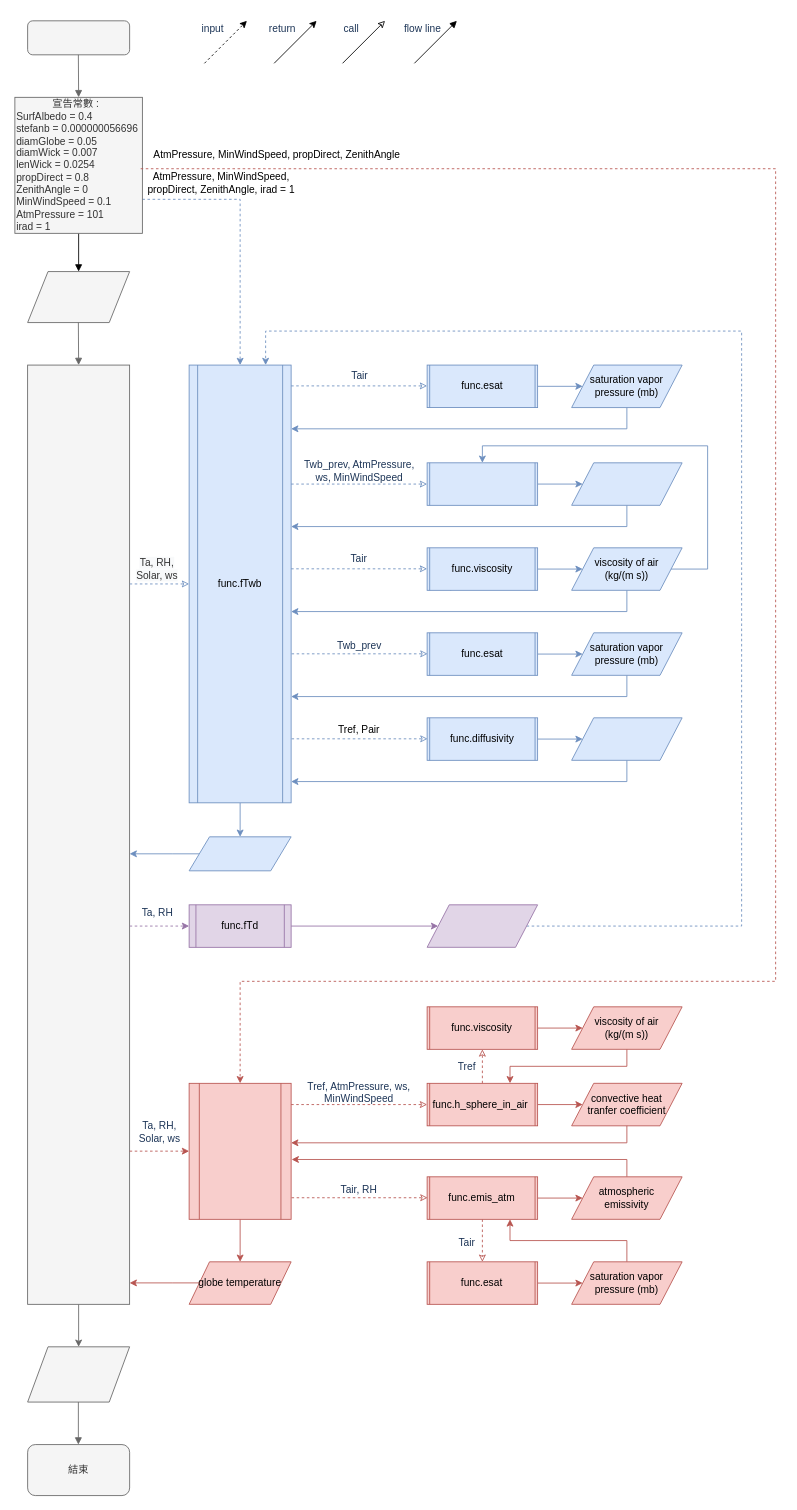
Some shapes in this 797 by 1510 pixel diagram are drawn without their labels. Each missing label, with the centre of its shape:
"convective heat transfer coefficient" belongs at (626,483).
"dew point" belongs at (482,925).
"diffusivity of water vapor in air (m2/s)" belongs at (626,738).
"func.fTg" belongs at (239,1150).
"func.h_cylinder_in_air" belongs at (482,483).
"natural wet bulb temperature" belongs at (239,853).
"匯入資料 Ta, RH, Solar, ws" belongs at (78,297).
"計算WBGT WBGT = 0.7 * Twb + 0.2 * Tg + 0.1 * Ta" belongs at (78,834).
"輸出WBGT" belongs at (78,1374).
"開始" belongs at (78,37).
